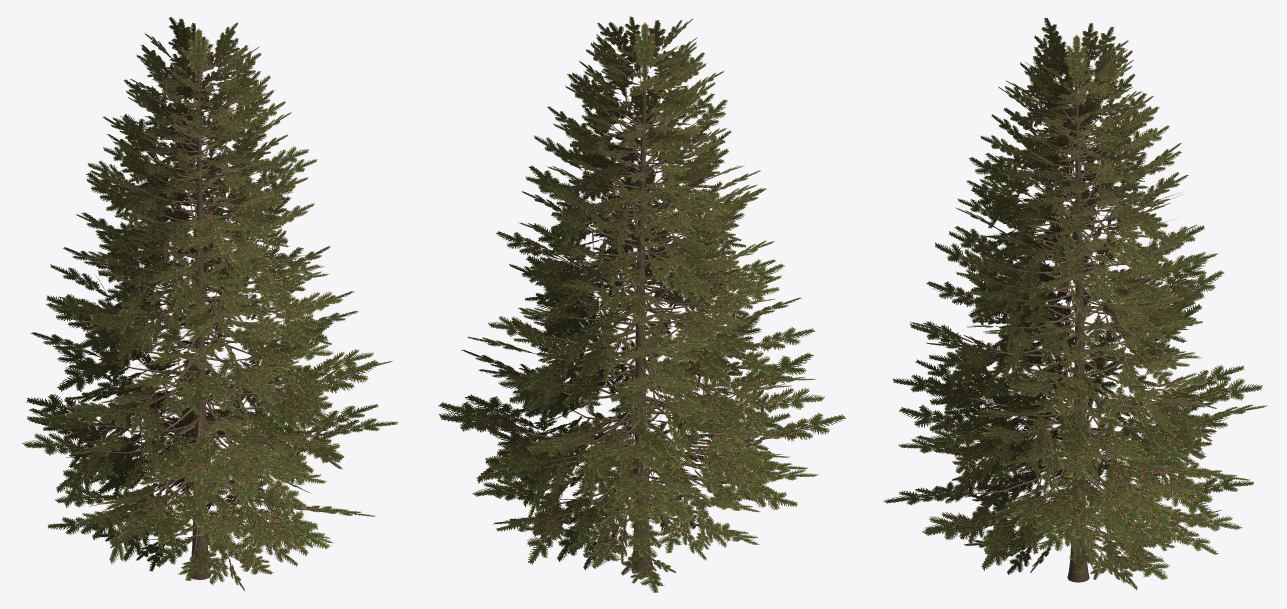
File: fir_small_a_lod0.gltf
The picture shows the model from 3 angles, left to right: view 1: azimuth 30°, elevation 25°; view 2: azimuth 150°, elevation 25°; view 3: azimuth 270°, elevation 25°; orthographic projection.
Parts seen in each view (by area): view 1: fir_small_a_LOD0; view 2: fir_small_a_LOD0; view 3: fir_small_a_LOD0.
Part boxes in pixels (x1,y1,x2,y2): fir_small_a_LOD0: (22, 17, 397, 591); fir_small_a_LOD0: (438, 16, 846, 592); fir_small_a_LOD0: (883, 17, 1267, 590).
Size of the model in its own units: 7.51 by 11.49 by 7.49.
2 materials, 2 textured.
